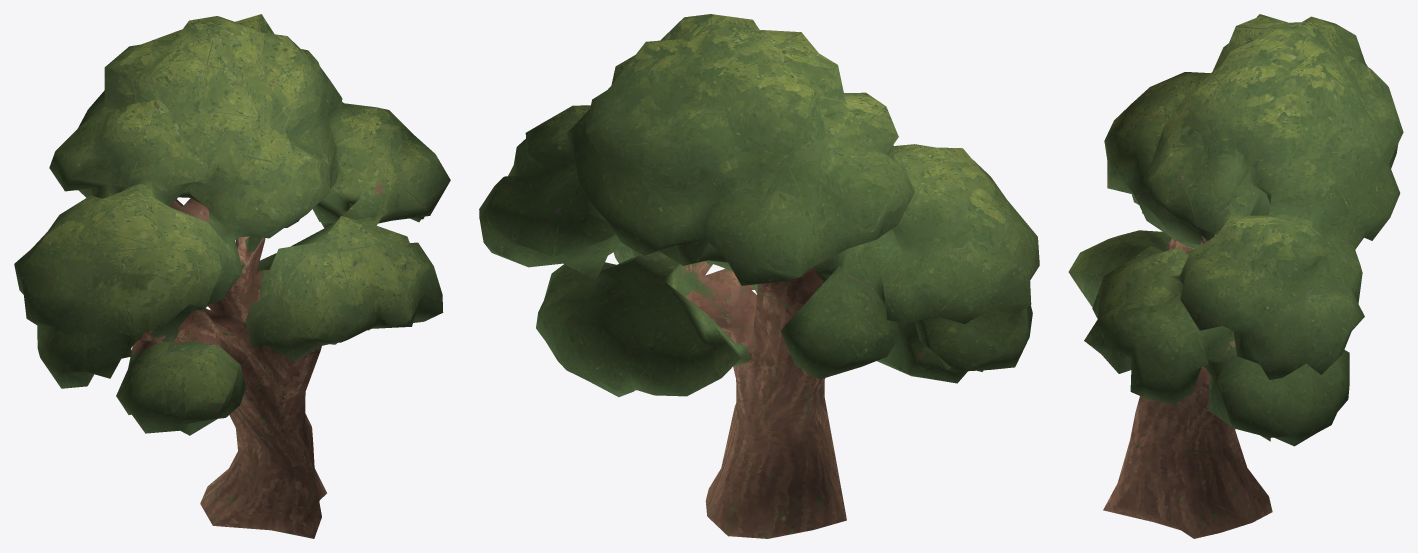
The model's file is whispering-oak.glb.
3 renders of one model, left to right at view 1: azimuth 30°, elevation 25°; view 2: azimuth 150°, elevation 25°; view 3: azimuth 270°, elevation 25°, orthographic. The views are drawn at different scales.
Parts seen in each view (by area): view 1: geometry_0; view 2: geometry_0; view 3: geometry_0.
Boxes of the visible parts, x1,y1,x2,y2 form: geometry_0: (14, 14, 450, 538); geometry_0: (479, 14, 1039, 538); geometry_0: (1068, 14, 1403, 538).
Size of the model in its own units: 1.89 by 1.92 by 1.21.
Materials: 1 (1 with a texture image).
